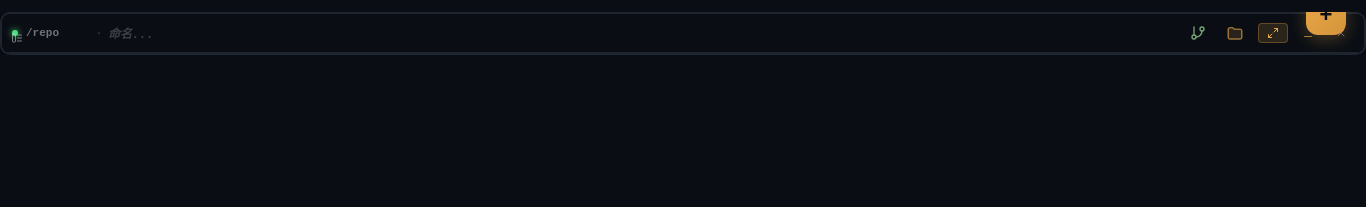
Test: M6 批A worktree 浮层 live › 行点击 → create{cwd} + renameSubmit{branch}，全链不发 close
This screenshot has width=1366, height=207.
Click the button with class "tile-worktree-btn": click(1198, 33) [1184,21,1212,45]
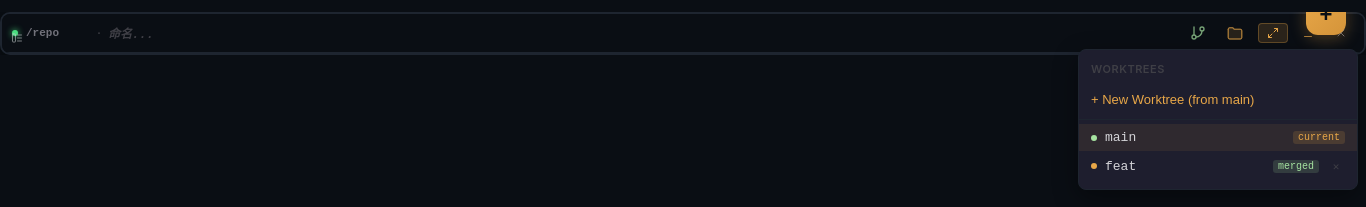
Click the button with class "worktree-popover__item" showing "feat merged ✕": click(1121, 166) [1079,151,1357,181]
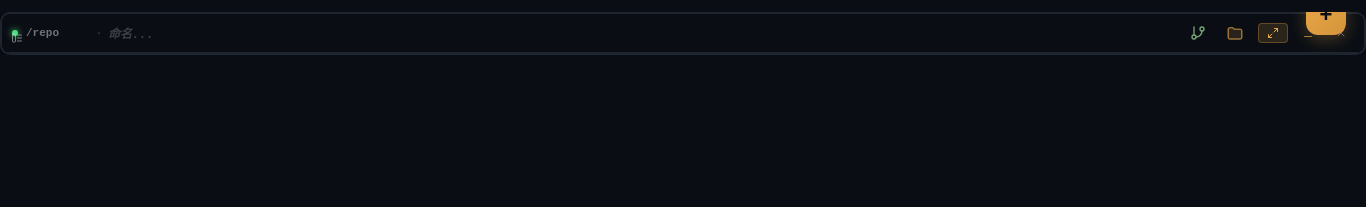
Check: the element with class "worktree-popover" is gone
